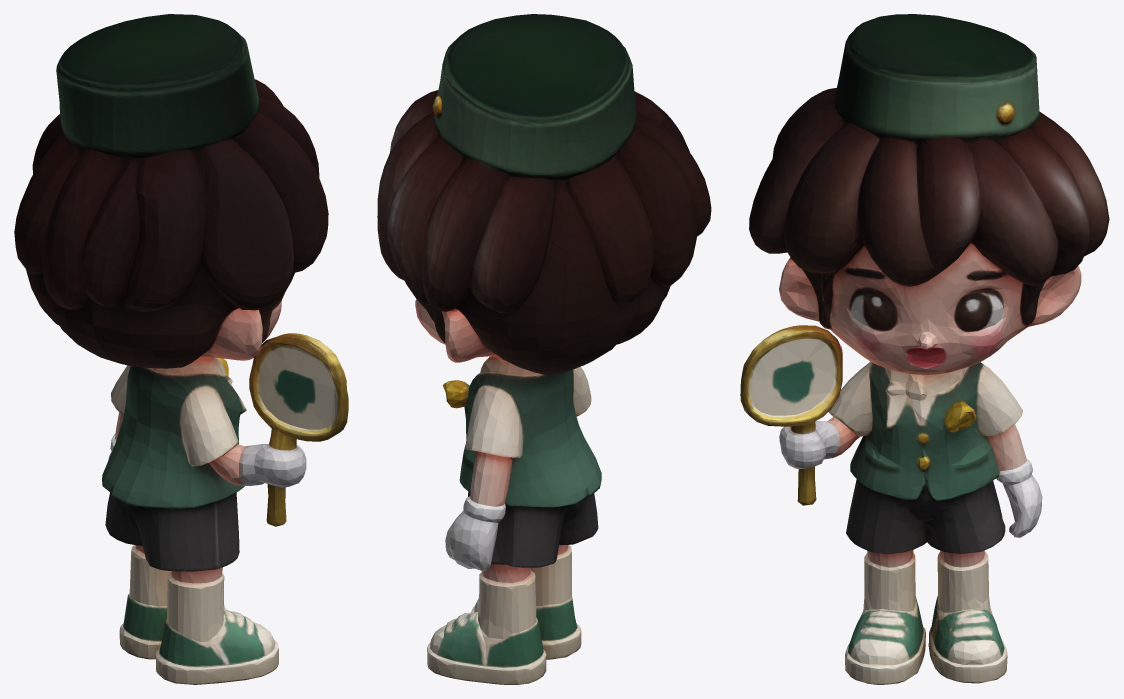
Rendered from result_s2.glb.
The picture shows the model from 3 angles, left to right: view 1: azimuth 30°, elevation 25°; view 2: azimuth 150°, elevation 25°; view 3: azimuth 270°, elevation 25°; orthographic projection.
Parts seen in each view (by area): view 1: geometry_0; view 2: geometry_0; view 3: geometry_0.
Boxes of the visible parts, bbox=[...] form: geometry_0: bbox=[14, 14, 348, 684]; geometry_0: bbox=[377, 14, 711, 684]; geometry_0: bbox=[740, 14, 1109, 684].
Bounding box in the file's own units: 0.455 × 0.9995 × 0.5511.
1 material, 1 textured.
